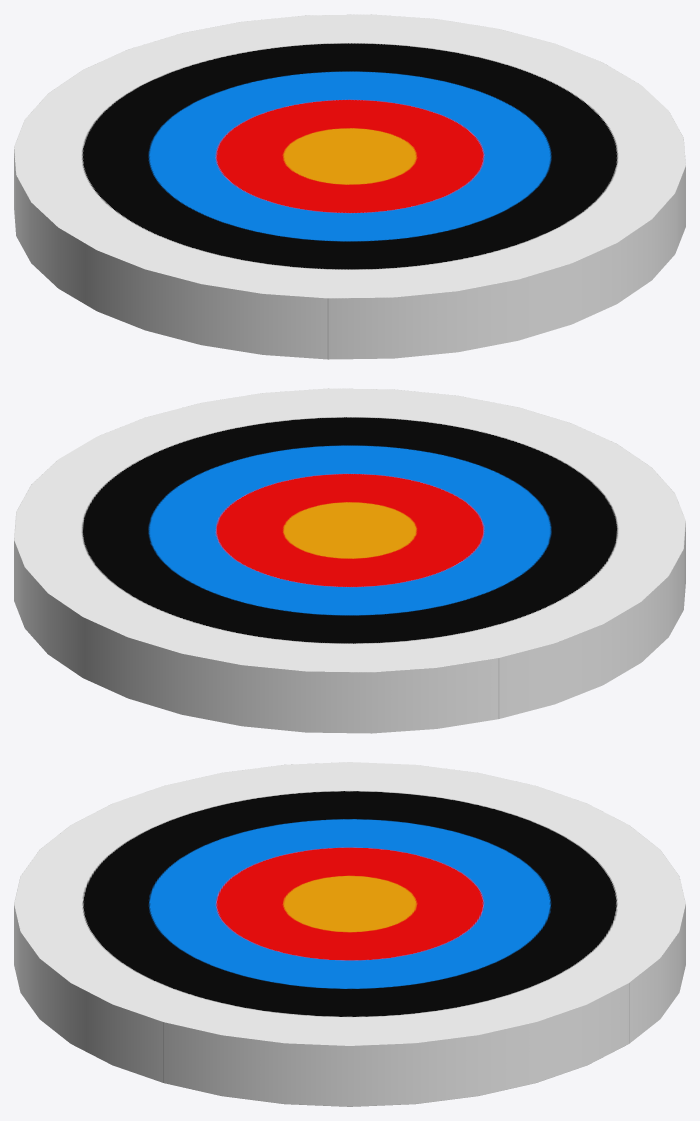
The model's file is roundTarget.dae.
The picture shows the model from 3 angles, top to bottom: view 1: azimuth 30°, elevation 25°; view 2: azimuth 150°, elevation 25°; view 3: azimuth 270°, elevation 25°; orthographic projection.
Visible parts, largest first — view 1: Circle; view 2: Circle; view 3: Circle.
Boxes of the visible parts, x1,y1,x2,y2 form: Circle: (14, 14, 685, 359); Circle: (14, 388, 685, 733); Circle: (14, 762, 685, 1106).
Size of the model in its own units: 10 by 10 by 1.
Materials: 1 (1 with a texture image).
